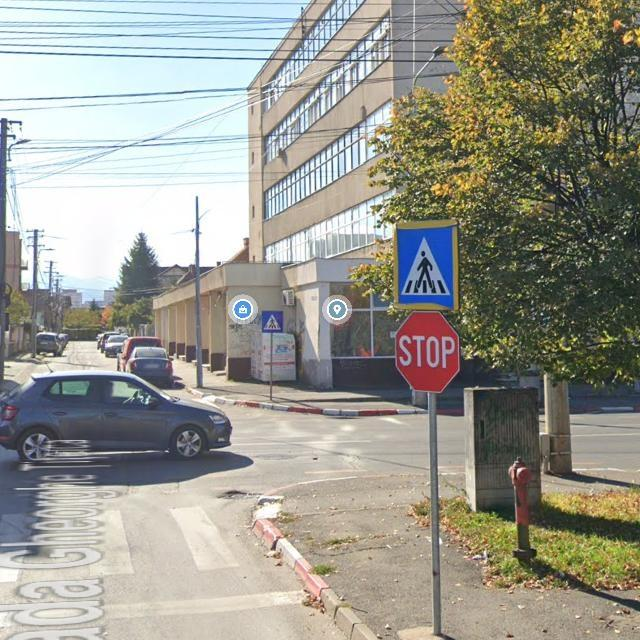info_crosswalk: (392, 222, 461, 312), (262, 309, 284, 333)
prio_stop: (395, 309, 462, 393)
